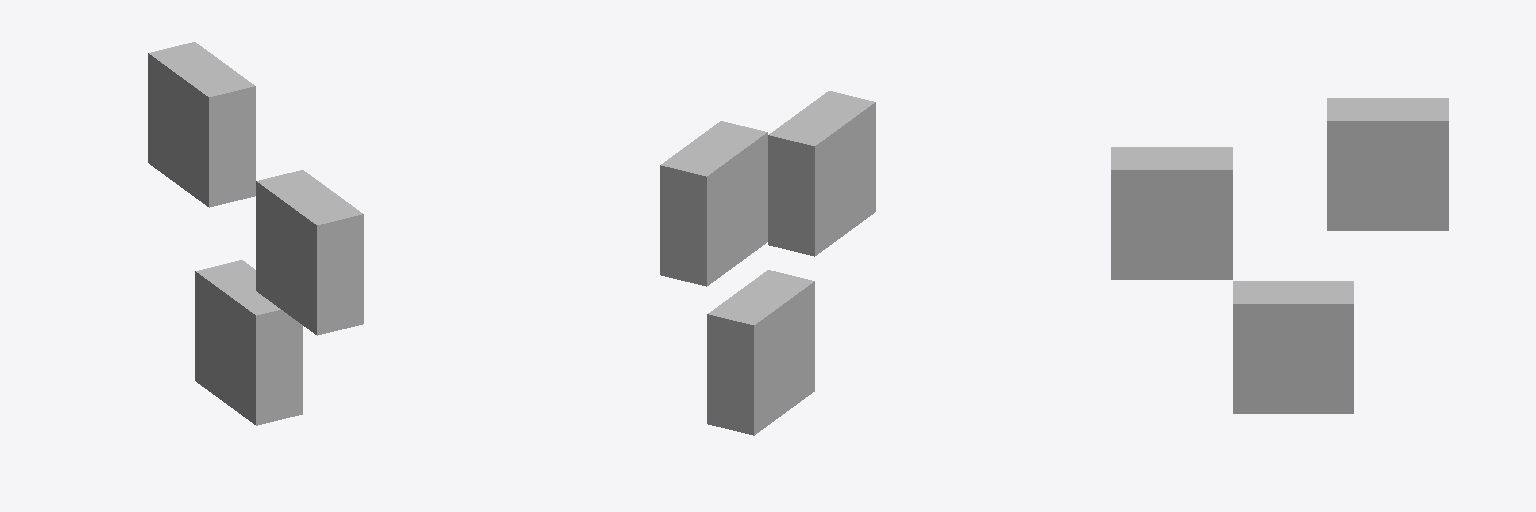
The model's file is nightmonsterentity.obj.
3 views of the same model, side by side, from view 1: azimuth 30°, elevation 25°; view 2: azimuth 150°, elevation 25°; view 3: azimuth 270°, elevation 25° (orthographic).
Visible parts, largest first — view 1: cube; view 2: cube; view 3: cube.
Boxes of the visible parts, box(x1,y1,x2,y2) form: cube: box(148, 42, 363, 425); cube: box(660, 91, 875, 435); cube: box(1111, 98, 1448, 413).
Bounding box in the file's own units: 0.25 × 1.5 × 1.56.